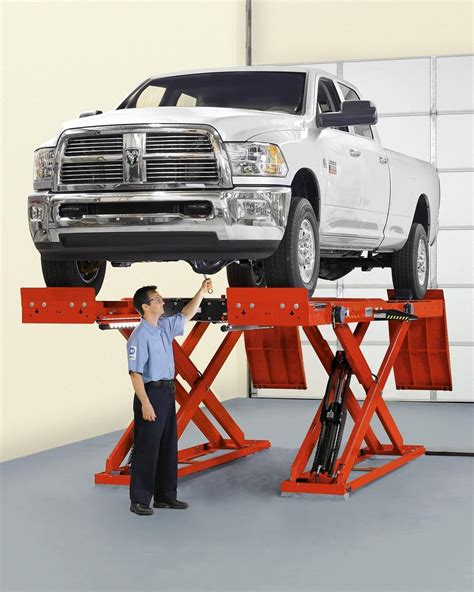Scissor Lift: (17, 280, 456, 500)
